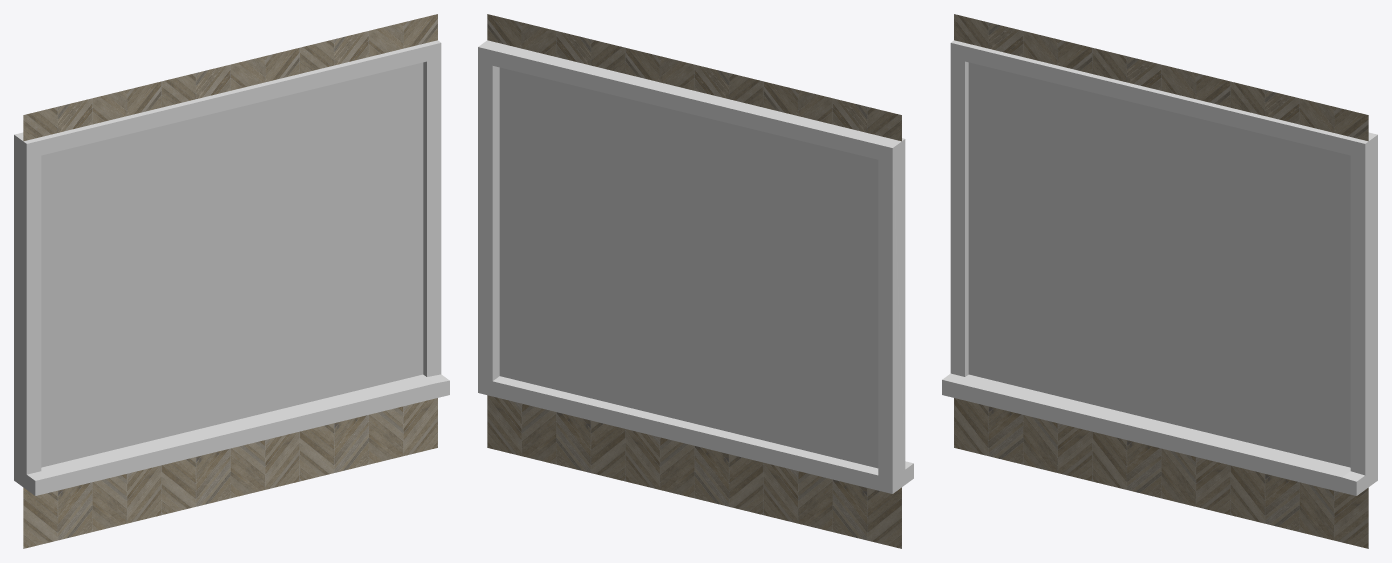
File: Window_Wall_Panel.fbx
3 renders of one model, left to right at view 1: azimuth 30°, elevation 25°; view 2: azimuth 150°, elevation 25°; view 3: azimuth 330°, elevation 25°, orthographic.
Visible parts, largest first — view 1: Window_Wall_Panel; view 2: Window_Wall_Panel; view 3: Window_Wall_Panel.
Boxes of the visible parts, x1,y1,x2,y2 form: Window_Wall_Panel: (14, 14, 449, 548); Window_Wall_Panel: (478, 14, 913, 548); Window_Wall_Panel: (942, 14, 1377, 548).
Bounding box in the file's own units: 3 × 3 × 0.266.
